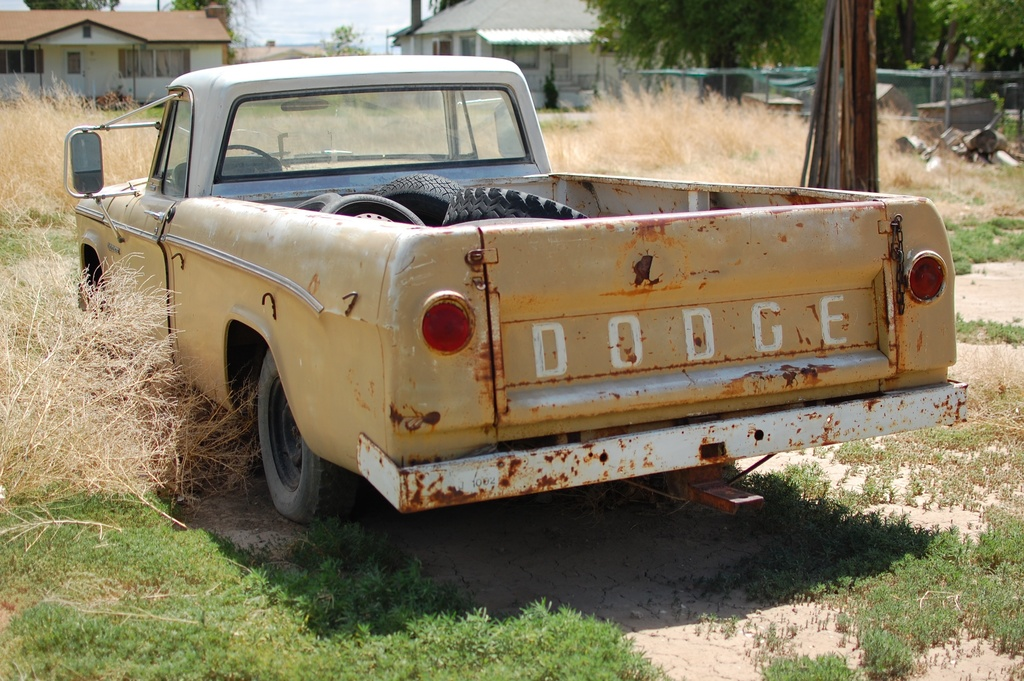car: (37, 45, 1003, 550)
